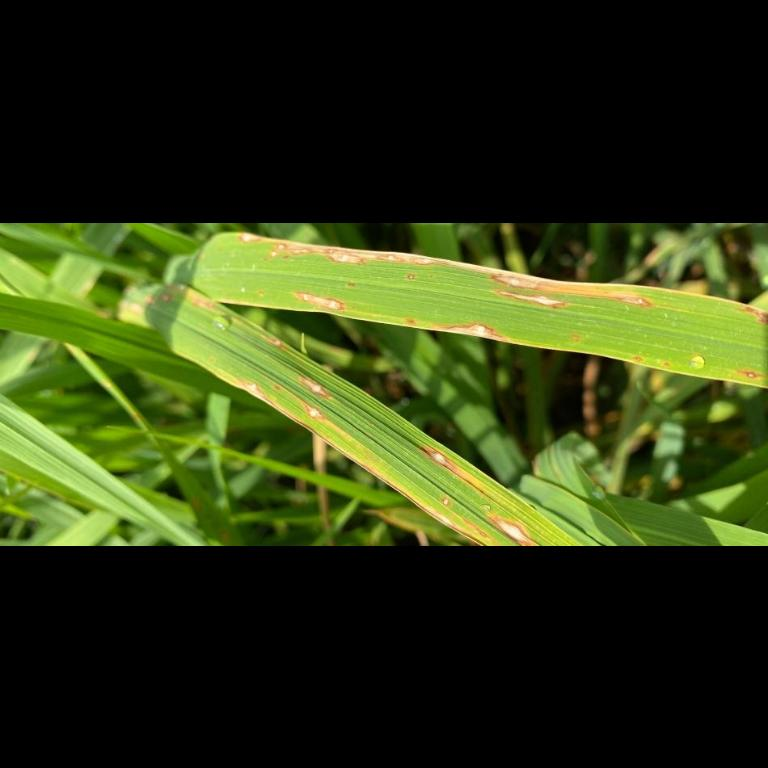blight: (273, 266, 359, 314)
